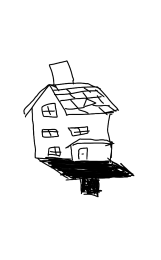chimney: (37, 57, 82, 82)
closed_window: (67, 123, 93, 139), (36, 125, 63, 140), (46, 143, 64, 158)
door: (72, 143, 96, 161)
shadow: (30, 157, 138, 198)
single_line_roof: (23, 82, 117, 117)
small_house: (0, 0, 161, 260)
wall: (30, 112, 114, 166)
